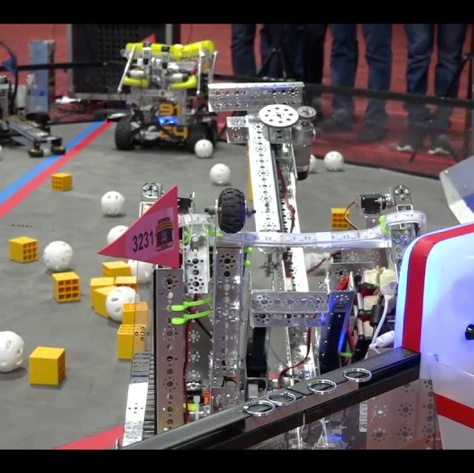robot: (100, 78, 438, 450), (111, 39, 224, 154)
